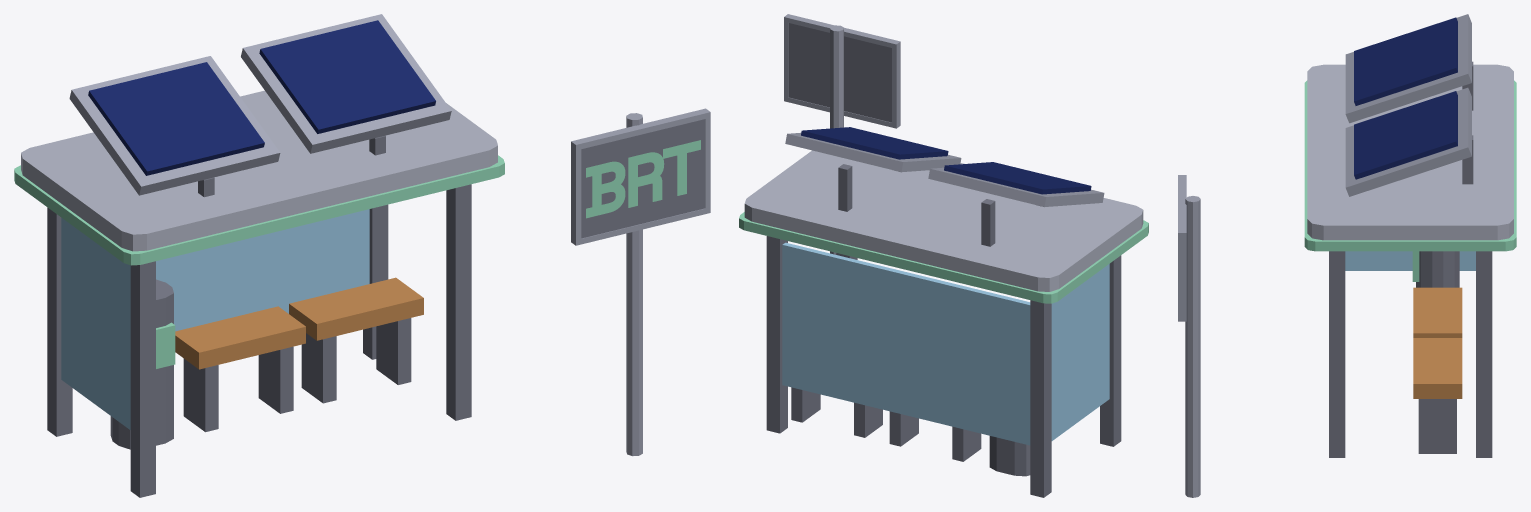
File: stop-1x1-brt.glb
3 views of the same model, side by side, from view 1: azimuth 30°, elevation 25°; view 2: azimuth 150°, elevation 25°; view 3: azimuth 270°, elevation 25° (orthographic). The views are drawn at different scales.
Parts seen in each view (by area): view 1: stop-1x1-brt; view 2: stop-1x1-brt; view 3: stop-1x1-brt.
Boxes of the visible parts, x1=… form: stop-1x1-brt: x1=14, y1=14, x2=710, y2=497; stop-1x1-brt: x1=739, y1=14, x2=1148, y2=497; stop-1x1-brt: x1=1178, y1=14, x2=1516, y2=497.
Size of the model in its own units: 0.951 by 0.6234 by 0.624.
1 material, 1 textured.
